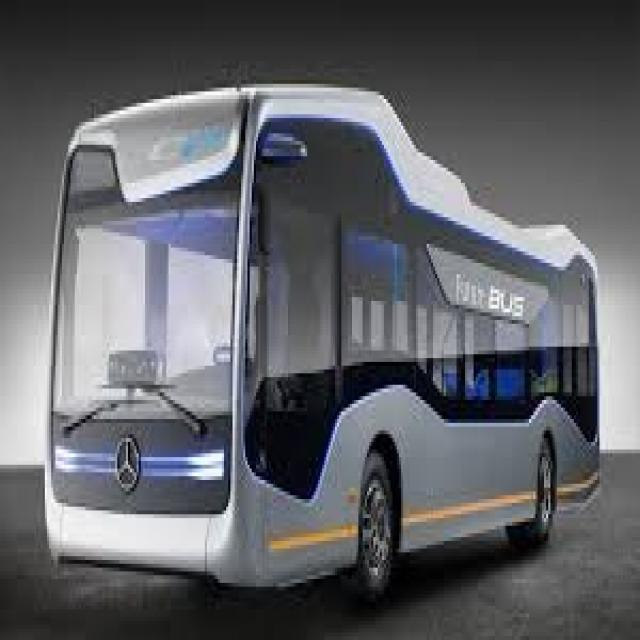bus: (40, 90, 603, 610)
